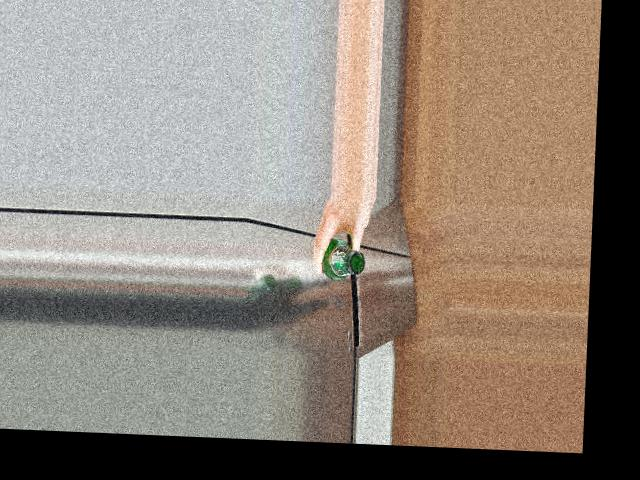beer: (321, 239, 366, 281)
